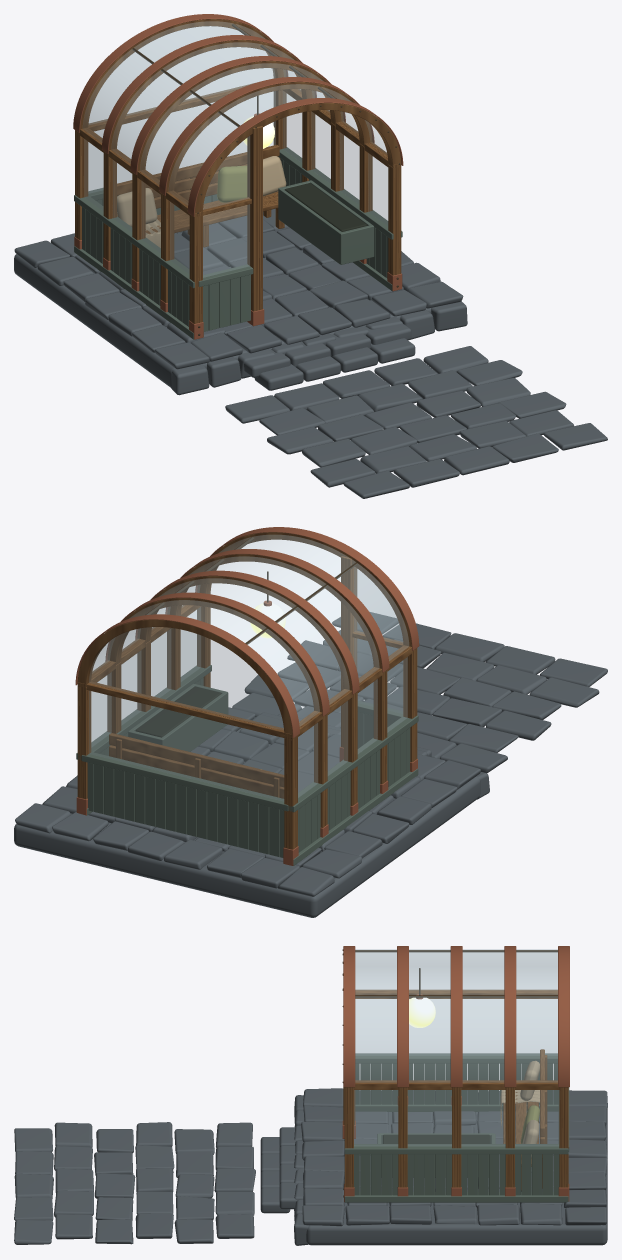
Rendered from refuge.glb.
3 views of the same model, one above another, from view 1: azimuth 30°, elevation 25°; view 2: azimuth 150°, elevation 25°; view 3: azimuth 270°, elevation 25° (orthographic). The views are drawn at different scales.
Visible parts, largest first — view 1: Opaque_Basalt, Opaque_Oak, Opaque_Sage, Opaque_Copper, GlassPane_21, GlassPane_20, Opaque_Linen, GlassPane_22, GlassPane_02, GlassPane_05, GlassPane_11, GlassPane_08 (+15 smaller); view 2: Opaque_Basalt, Opaque_Oak, Opaque_Sage, GlassPane_20, GlassPane_21, Opaque_Copper, GlassPane_11, GlassPane_02, GlassPane_05, GlassPane_08, GlassPane_07, GlassPane_04 (+14 smaller); view 3: Opaque_Basalt, Opaque_Sage, Opaque_Copper, Opaque_Oak, GlassPane_00, GlassPane_03, GlassPane_09, GlassPane_06, GlassPane_18, GlassPane_16, GlassPane_17, GlassPane_19 (+16 smaller).
Boxes of the visible parts, x1,y1,x2,y2 form: Opaque_Basalt: [14, 208, 607, 498]; Opaque_Oak: [75, 19, 401, 323]; Opaque_Sage: [74, 147, 402, 339]; Opaque_Copper: [73, 14, 403, 339]; GlassPane_21: [89, 26, 274, 124]; GlassPane_20: [89, 91, 275, 192]; Opaque_Linen: [117, 156, 286, 247]; GlassPane_22: [203, 204, 249, 277]; GlassPane_02: [169, 112, 238, 205]; GlassPane_05: [140, 91, 209, 184]; GlassPane_11: [83, 49, 152, 142]; GlassPane_08: [111, 70, 180, 163]; Opaque_Basalt: [14, 612, 607, 917]; Opaque_Oak: [77, 532, 417, 849]; Opaque_Sage: [76, 665, 418, 865]; GlassPane_20: [89, 691, 283, 800]; GlassPane_21: [89, 627, 283, 729]; Opaque_Copper: [75, 527, 419, 865]; GlassPane_11: [247, 629, 319, 725]; GlassPane_02: [337, 563, 408, 660]; GlassPane_05: [307, 585, 379, 682]; GlassPane_08: [277, 607, 349, 704]; GlassPane_07: [176, 578, 295, 620]; GlassPane_04: [205, 556, 325, 598]; Opaque_Basalt: [14, 1088, 607, 1245]; Opaque_Sage: [344, 1053, 569, 1202]; Opaque_Copper: [342, 946, 569, 1201]; Opaque_Oak: [343, 989, 568, 1190]; GlassPane_00: [355, 996, 396, 1082]; GlassPane_03: [409, 996, 450, 1082]; GlassPane_09: [516, 996, 557, 1082]; GlassPane_06: [463, 996, 503, 1082]; GlassPane_18: [461, 1090, 505, 1146]; GlassPane_16: [354, 1090, 397, 1146]; GlassPane_17: [408, 1090, 451, 1146]; GlassPane_19: [515, 1090, 558, 1146].
Bounding box in the file's own units: 4.72 × 3.7 × 8.85.
Materials: 10 (1 with a texture image).
